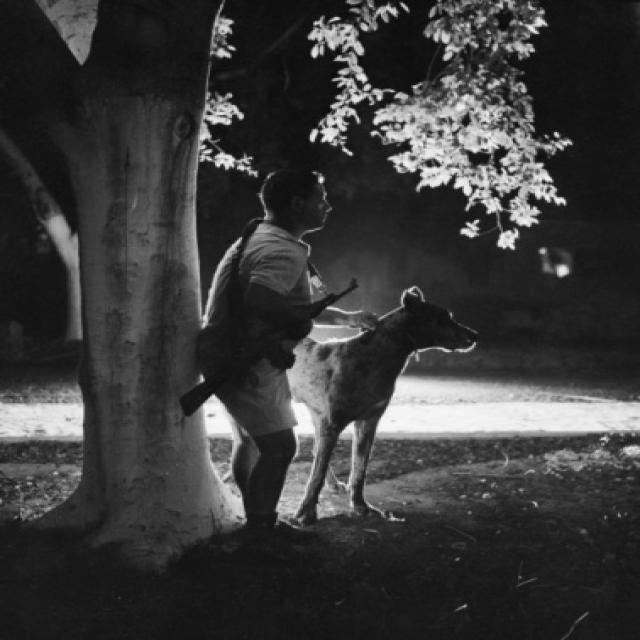Dog: (300, 307, 517, 531)
